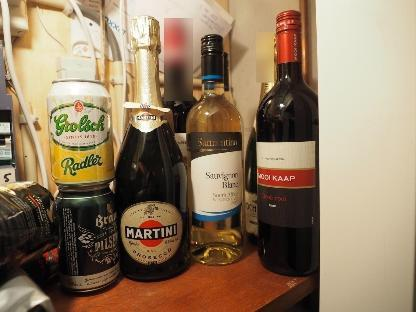Can: (46, 74, 116, 190), (53, 184, 121, 294)
Glass Bottle: (112, 14, 190, 284), (254, 9, 322, 275), (182, 33, 249, 266)
